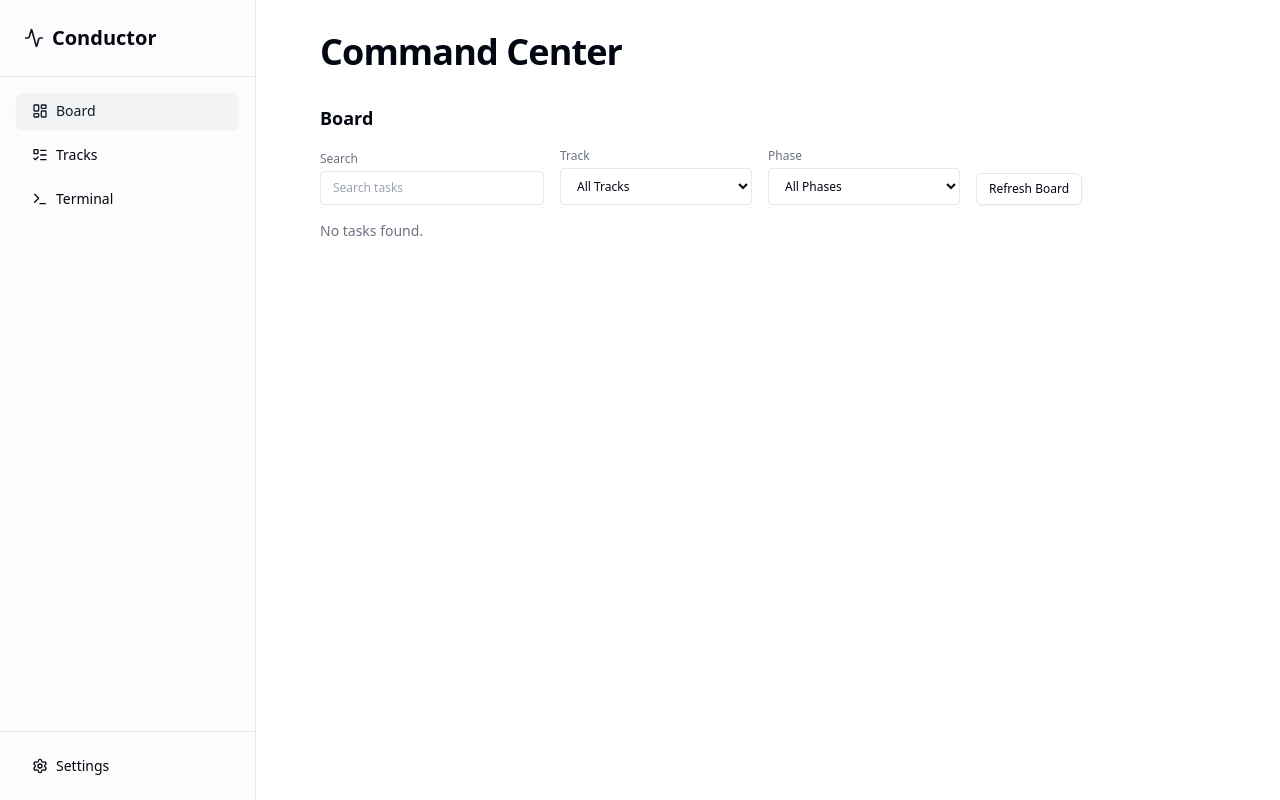
Scenario: App Component › renders settings view when selected
Click the button "Settings" at point(128, 766), box x1=16 y1=748 x2=239 y2=784
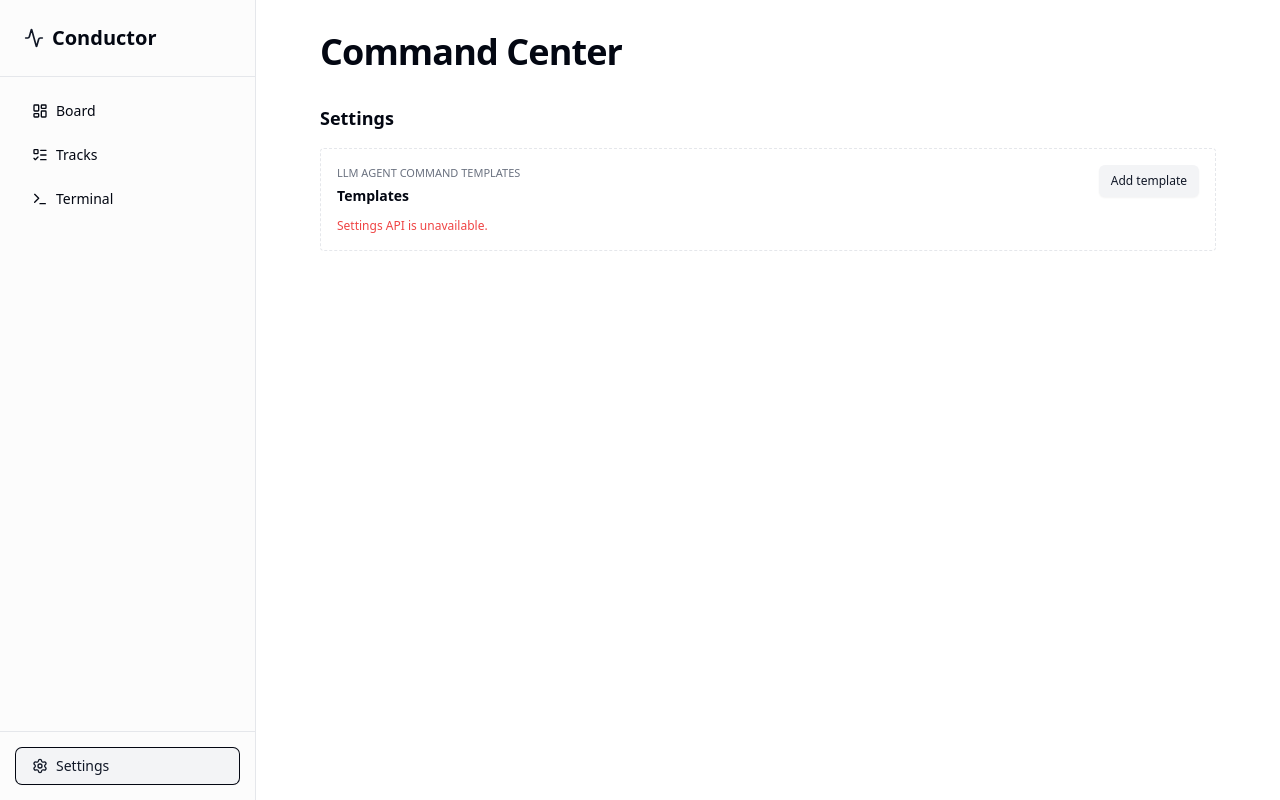
Check: the element with test id "settings-tab" is shown, box x1=320 y1=104 x2=1216 y2=250
Check: the heading "Settings" is shown, box x1=320 y1=106 x2=394 y2=130
